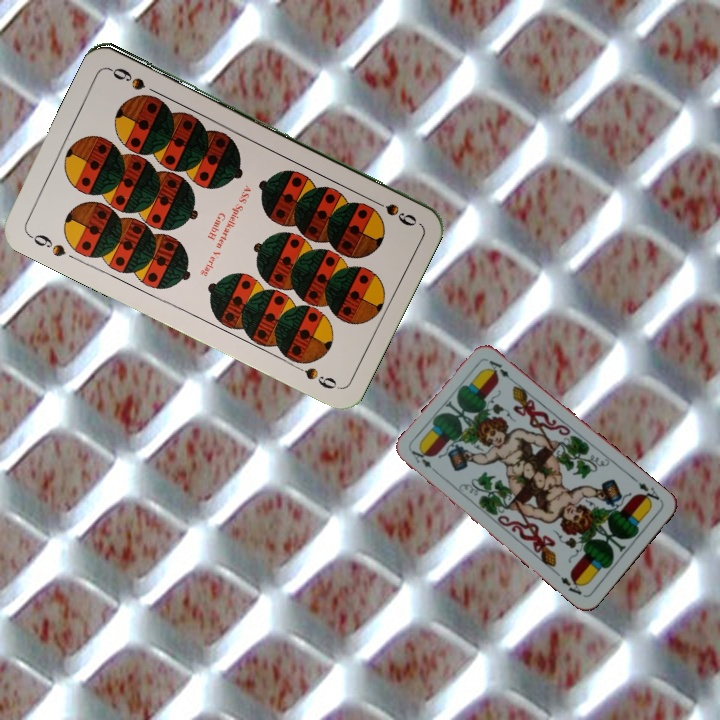EA: (407, 445, 441, 477), (634, 478, 664, 507)
S9: (365, 194, 420, 229), (23, 229, 69, 260)
